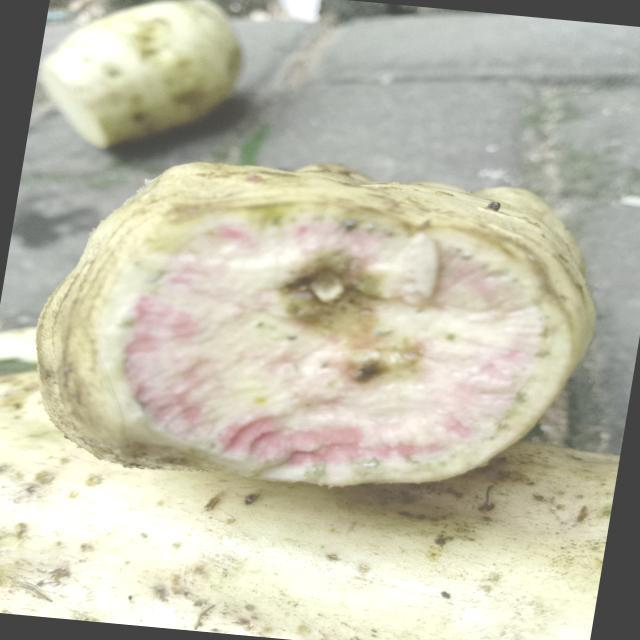Sick Sweet Potato_Tuber Rot: (68, 164, 593, 485)
